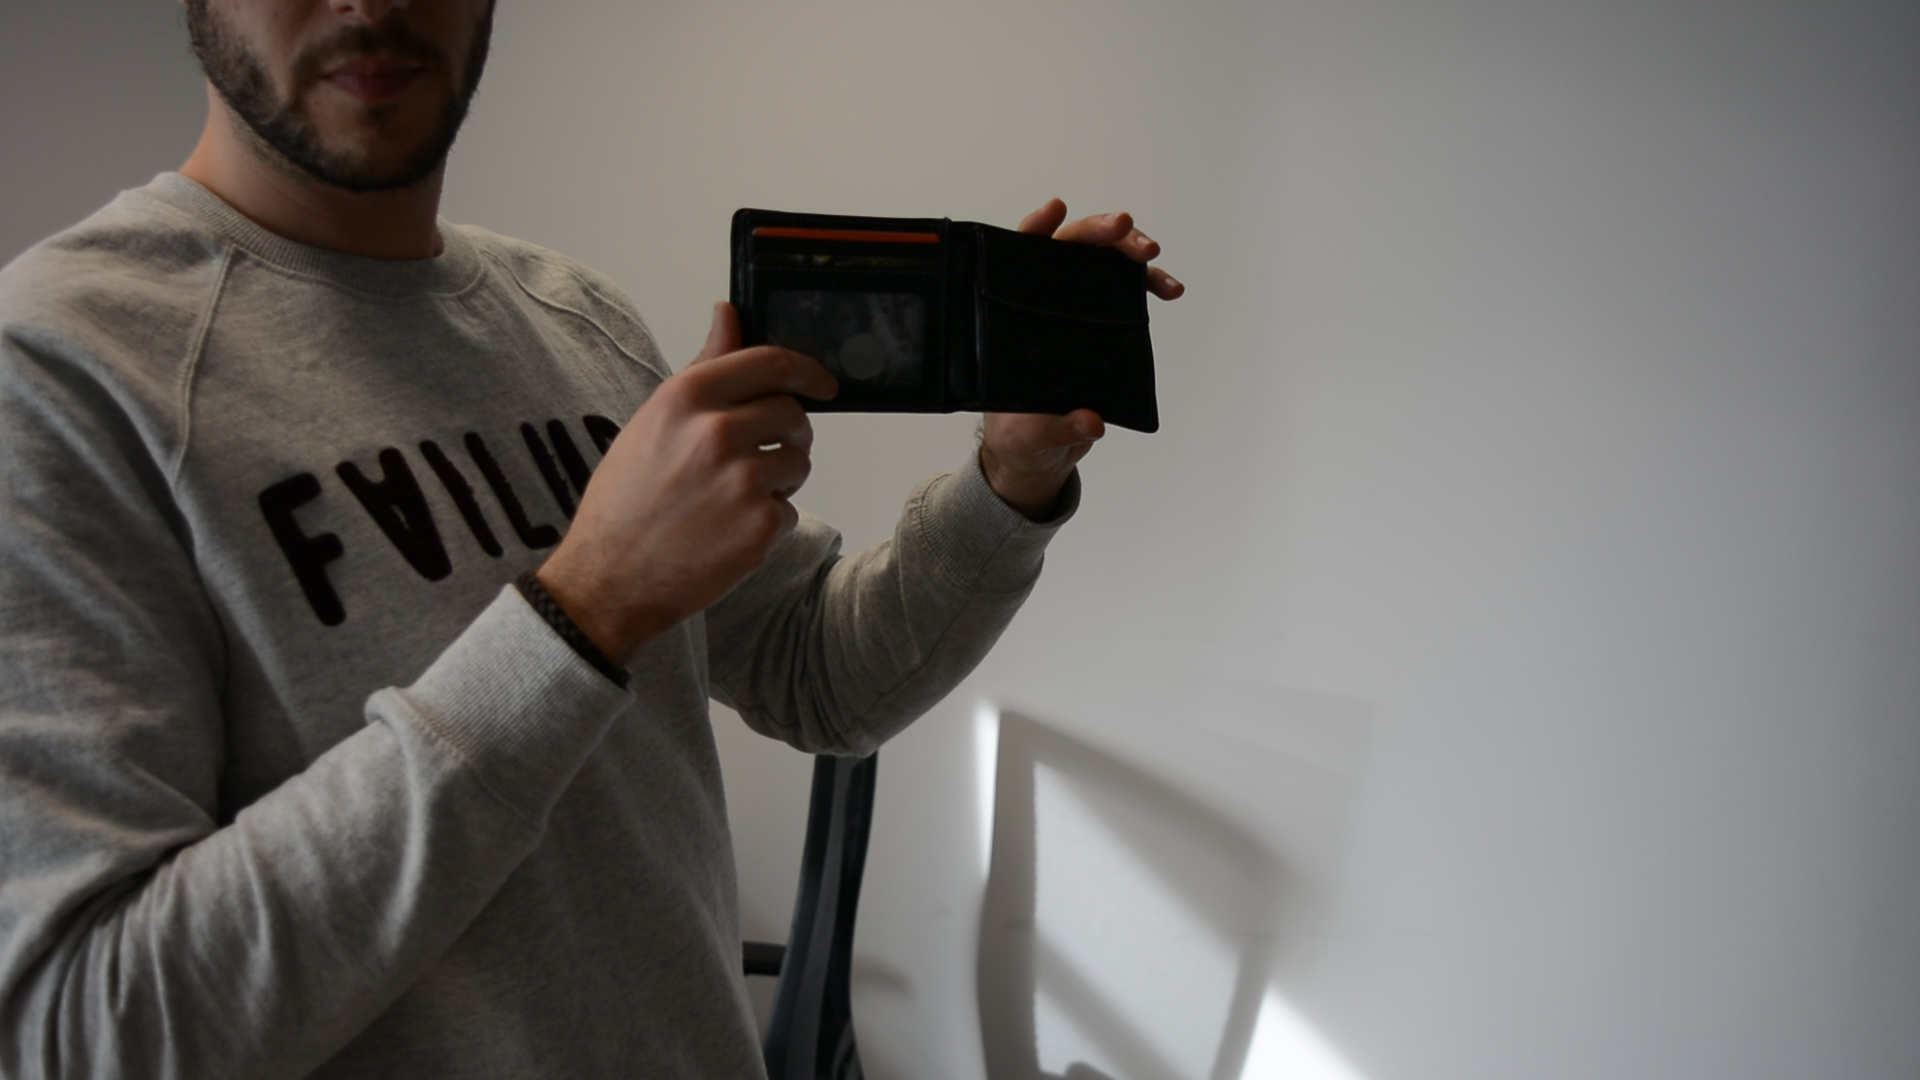monedero: (728, 207, 1160, 436)
